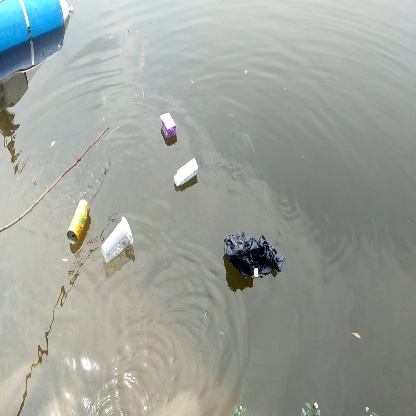bottle: (100, 214, 135, 265), (65, 198, 92, 247)
milk-box: (157, 110, 181, 144)
plastic-bag: (223, 231, 286, 287)
